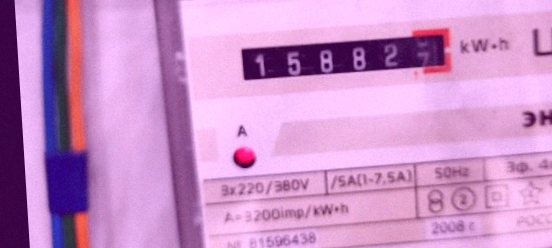1: (252, 52, 267, 77)
2: (382, 41, 398, 66)
5: (284, 48, 301, 75)
7: (415, 47, 430, 67)
8: (317, 47, 334, 74), (350, 44, 366, 70)
screen: (225, 19, 461, 96)
